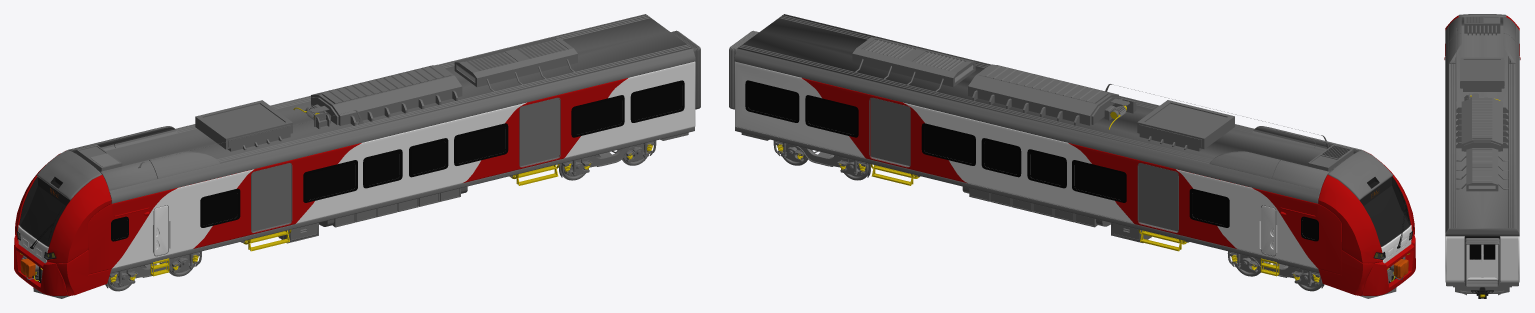
File: lastochka.glb
The picture shows the model from 3 angles, left to right: view 1: azimuth 30°, elevation 25°; view 2: azimuth 150°, elevation 25°; view 3: azimuth 270°, elevation 25°; orthographic projection. The views are drawn at different scales.
Parts seen in each view (by area): view 1: krisha_color1_0, stenki_Material #44_0, stenki_Material #56_0, stenki_Material #544_0, stenki_color1_0, dno_color1_0, stenki_Material #1262_0, pered_Material #56_0, pered_bamper_0, lob_Material #1287_0, nazvanie_color1_0, tel_z_color1_0 (+4 smaller); view 2: krisha_color1_0, stenki_Material #44_0, stenki_Material #56_0, stenki_Material #544_0, stenki_color1_0, dno_color1_0, stenki_Material #1262_0, pered_Material #56_0, pered_bamper_0, lob_Material #1287_0, nazvanie_color1_0, tel_z_color1_0 (+4 smaller); view 3: krisha_color1_0, stenki_Material #44_0, rez_color1_0, dno_color1_0, dv10_Material #44_0, dv9_Material #44_0, dv10_Material #705_0, dv9_Material #705_0, stenki_Material #69_0, scepka_Material #69_0, pered_Material #56_0.
Boxes of the visible parts, left/top/right/bottom form: krisha_color1_0: left=37, top=14, right=695, bottom=203; stenki_Material #44_0: left=112, top=61, right=695, bottom=268; stenki_Material #56_0: left=88, top=78, right=627, bottom=274; stenki_Material #544_0: left=112, top=83, right=681, bottom=239; stenki_color1_0: left=127, top=85, right=682, bottom=256; dno_color1_0: left=33, top=126, right=694, bottom=298; stenki_Material #1262_0: left=111, top=80, right=684, bottom=241; pered_Material #56_0: left=15, top=153, right=111, bottom=263; pered_bamper_0: left=14, top=226, right=111, bottom=295; lob_Material #1287_0: left=19, top=176, right=69, bottom=246; nazvanie_color1_0: left=19, top=177, right=69, bottom=246; tel_z_color1_0: left=559, top=140, right=656, bottom=177; krisha_color1_0: left=734, top=14, right=1392, bottom=203; stenki_Material #44_0: left=735, top=61, right=1317, bottom=268; stenki_Material #56_0: left=802, top=78, right=1341, bottom=274; stenki_Material #544_0: left=748, top=83, right=1317, bottom=239; stenki_color1_0: left=748, top=97, right=1305, bottom=256; dno_color1_0: left=735, top=126, right=1396, bottom=298; stenki_Material #1262_0: left=745, top=80, right=1318, bottom=241; pered_Material #56_0: left=1318, top=153, right=1414, bottom=263; pered_bamper_0: left=1318, top=227, right=1415, bottom=295; lob_Material #1287_0: left=1360, top=176, right=1410, bottom=246; nazvanie_color1_0: left=1360, top=177, right=1410, bottom=246; tel_z_color1_0: left=773, top=140, right=870, bottom=177; krisha_color1_0: left=1445, top=14, right=1519, bottom=236; stenki_Material #44_0: left=1444, top=58, right=1520, bottom=282; rez_color1_0: left=1465, top=238, right=1499, bottom=287; dno_color1_0: left=1446, top=282, right=1518, bottom=293; dv10_Material #44_0: left=1482, top=244, right=1496, bottom=278; dv9_Material #44_0: left=1468, top=244, right=1482, bottom=278; dv10_Material #705_0: left=1483, top=244, right=1495, bottom=259; dv9_Material #705_0: left=1469, top=244, right=1481, bottom=259; stenki_Material #69_0: left=1464, top=236, right=1500, bottom=281; scepka_Material #69_0: left=1471, top=287, right=1493, bottom=298; pered_Material #56_0: left=1445, top=15, right=1519, bottom=30.
Bounding box in the file's own units: 20.62 × 3.91 × 2.9.
